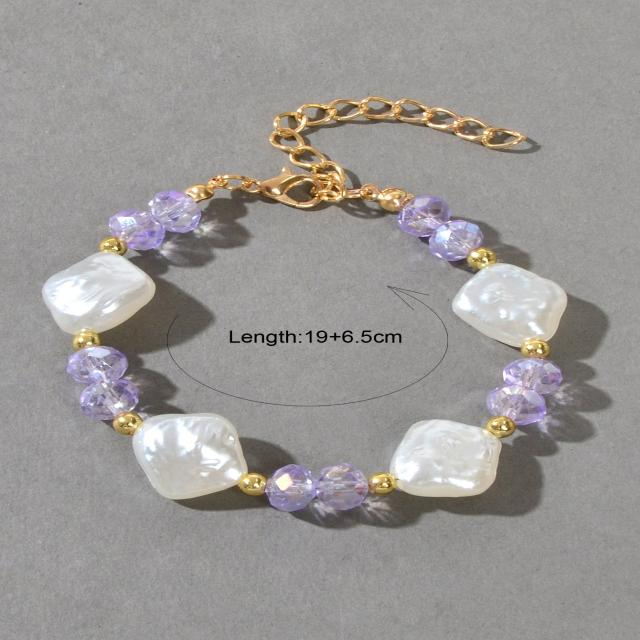bracelet: (0, 51, 640, 574)
